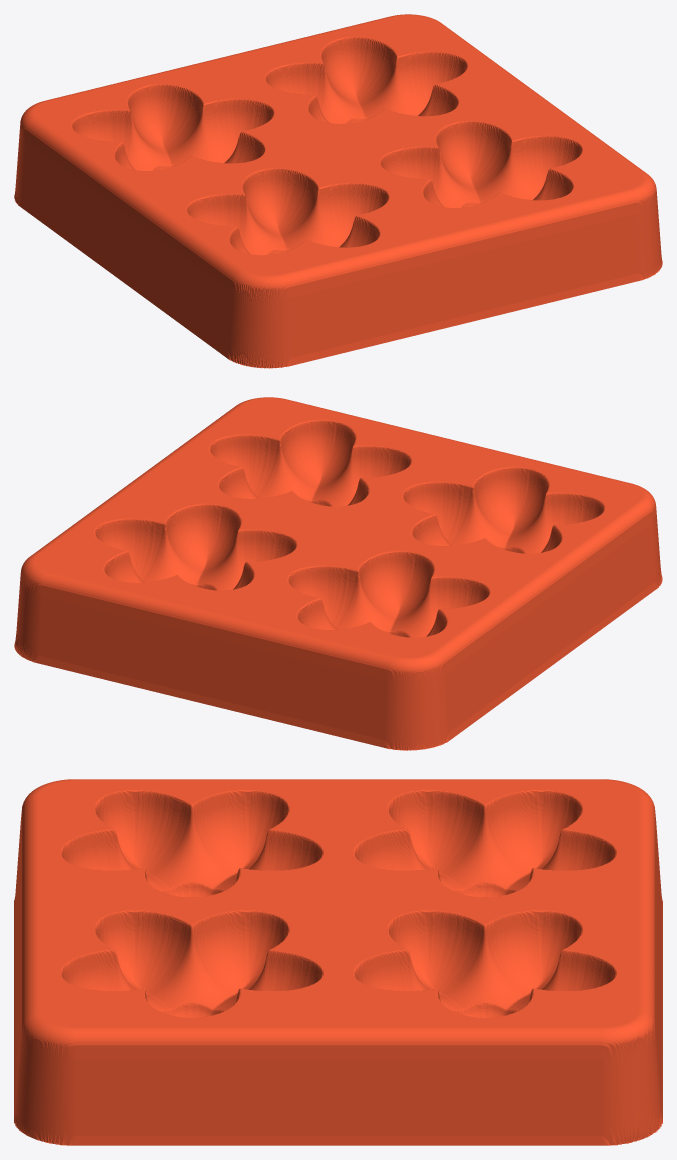
File: mold.glb
3 renders of one model, top to bottom at view 1: azimuth 30°, elevation 25°; view 2: azimuth 150°, elevation 25°; view 3: azimuth 270°, elevation 25°, orthographic. The views are drawn at different scales.
Parts seen in each view (by area): view 1: geometry_0; view 2: geometry_0; view 3: geometry_0.
Boxes of the visible parts, <box> form: geometry_0: <box>14,14,662,368</box>; geometry_0: <box>14,397,662,750</box>; geometry_0: <box>14,779,662,1145</box>.
Bounding box in the file's own units: 0.0928 × 0.0175 × 0.0952.
